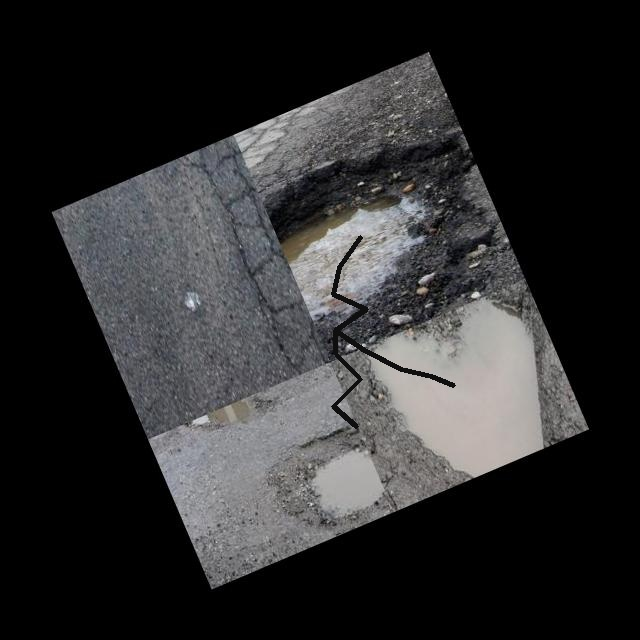road_crack: (318, 227, 382, 436)
